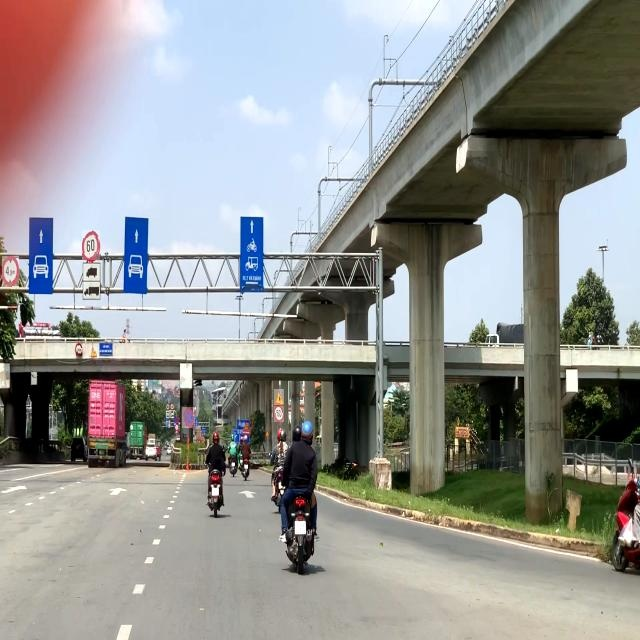bien_cam: (2, 256, 19, 288), (82, 230, 100, 260), (182, 407, 194, 428), (274, 389, 284, 405), (274, 406, 284, 422), (89, 346, 97, 358), (76, 343, 82, 356)
